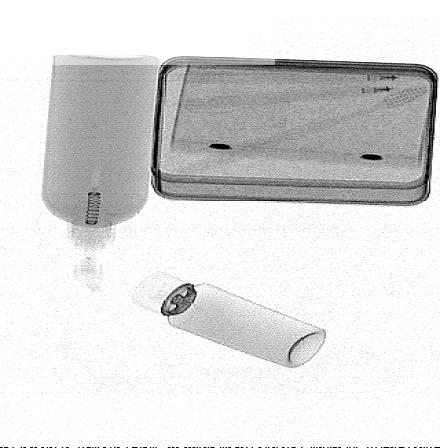Sprayer: (133, 271, 328, 370)
